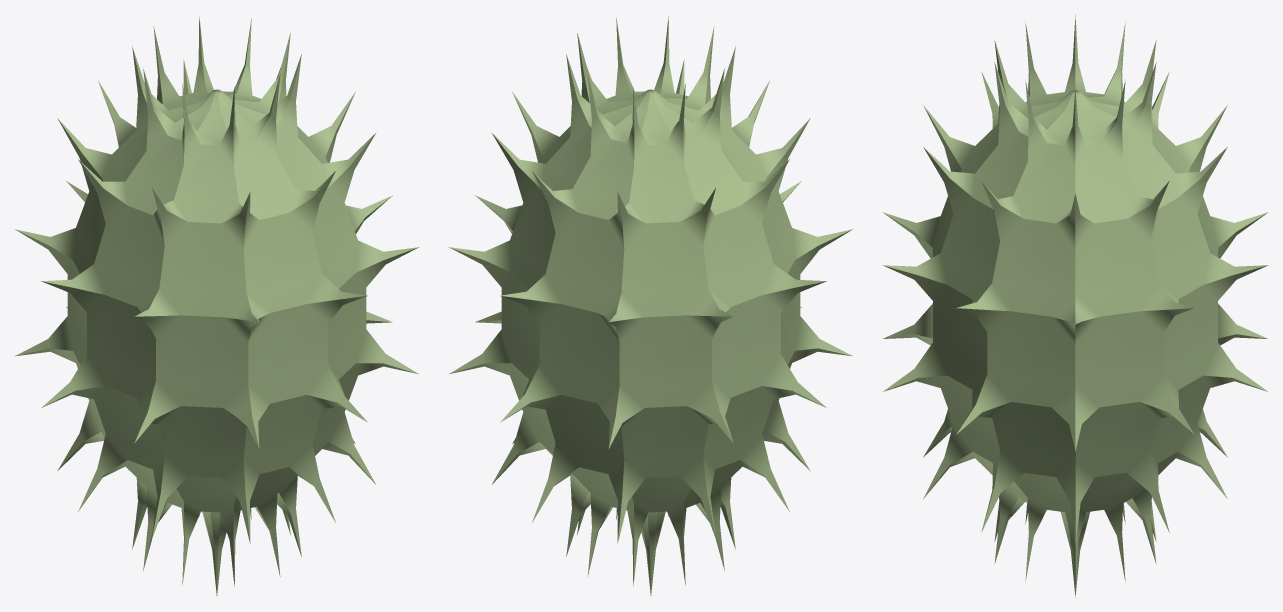
File: Cactus_Barrel.fbx
The picture shows the model from 3 angles, left to right: view 1: azimuth 30°, elevation 25°; view 2: azimuth 150°, elevation 25°; view 3: azimuth 270°, elevation 25°; orthographic projection.
Visible parts, largest first — view 1: pSphere6; view 2: pSphere6; view 3: pSphere6.
Part boxes in pixels (x1=…): pSphere6: x1=15, y1=16, x2=418, y2=595; pSphere6: x1=449, y1=16, x2=852, y2=595; pSphere6: x1=883, y1=14, x2=1267, y2=597.
Bounding box in the file's own units: 9.82 × 14.6 × 9.34.
